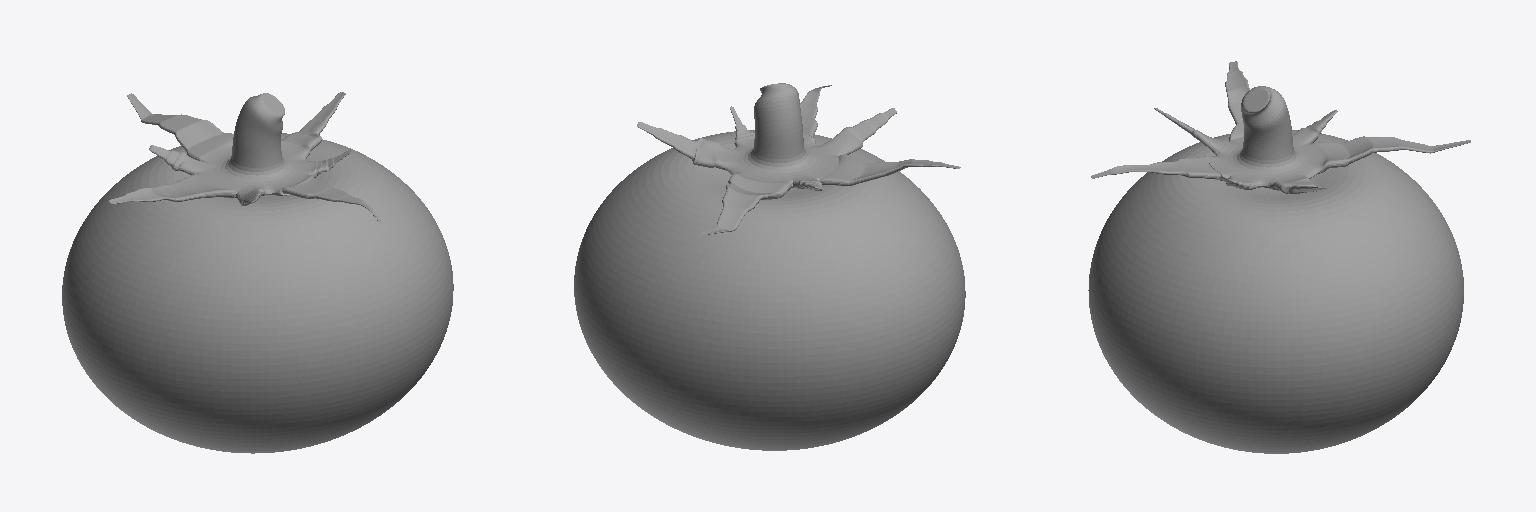
File: Tommato.obj
3 renders of one model, left to right at view 1: azimuth 30°, elevation 25°; view 2: azimuth 150°, elevation 25°; view 3: azimuth 270°, elevation 25°, orthographic.
Visible parts, largest first — view 1: Sphere, Cylinder; view 2: Sphere, Cylinder; view 3: Sphere, Cylinder.
Part boxes in pixels (left/top/right/bottom): Sphere: left=62, top=133, right=453, bottom=453; Cylinder: left=109, top=92, right=381, bottom=223; Sphere: left=574, top=130, right=965, bottom=450; Cylinder: left=637, top=83, right=960, bottom=234; Sphere: left=1088, top=130, right=1463, bottom=453; Cylinder: left=1091, top=61, right=1470, bottom=193.
Size of the model in its own units: 1.98 by 1.84 by 1.91.